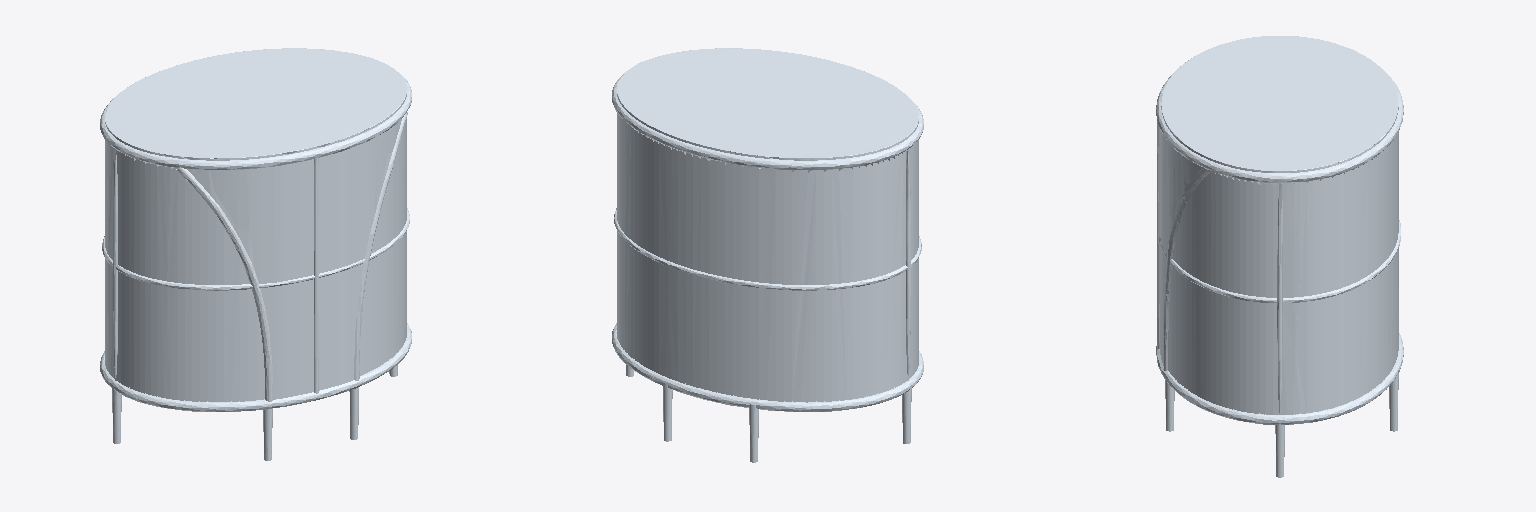
The model's file is raw_model.obj.
3 renders of one model, left to right at view 1: azimuth 30°, elevation 25°; view 2: azimuth 150°, elevation 25°; view 3: azimuth 270°, elevation 25°, orthographic.
Visible parts, largest first — view 1: solid_001, solid_002, solid_003; view 2: solid_002, solid_001, solid_003; view 3: solid_002, solid_001, solid_003.
Part boxes in pixels (bbox=[...]): solid_001: bbox=[105, 48, 406, 399]; solid_002: bbox=[105, 119, 406, 401]; solid_003: bbox=[100, 78, 411, 460]; solid_002: bbox=[617, 113, 918, 402]; solid_001: bbox=[617, 48, 918, 172]; solid_003: bbox=[612, 76, 923, 462]; solid_002: bbox=[1168, 132, 1398, 414]; solid_001: bbox=[1160, 36, 1398, 365]; solid_003: bbox=[1156, 74, 1403, 477].
Size of the model in its own units: 0.5592 by 0.5689 by 0.4181.